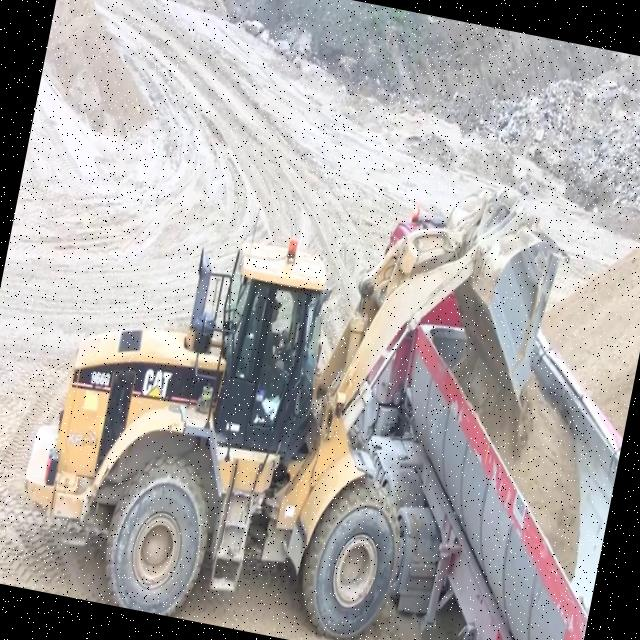Dump Truck: (358, 316, 639, 640)
Loader: (2, 113, 569, 640)
